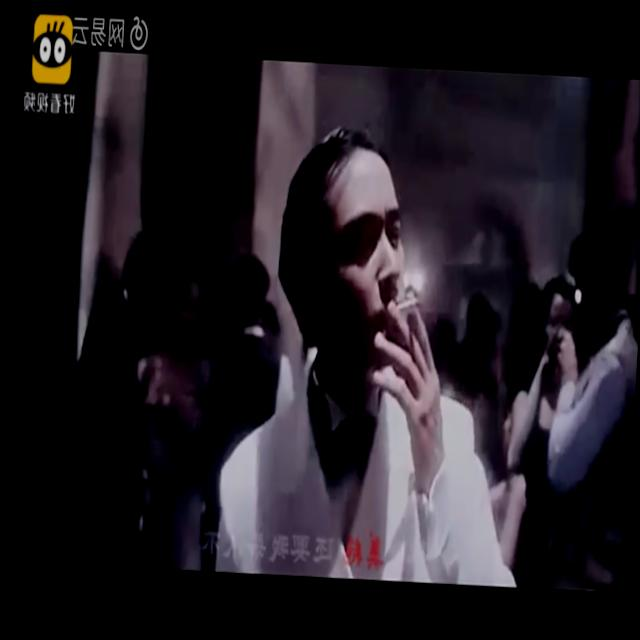cigarette: (396, 288, 424, 322)
